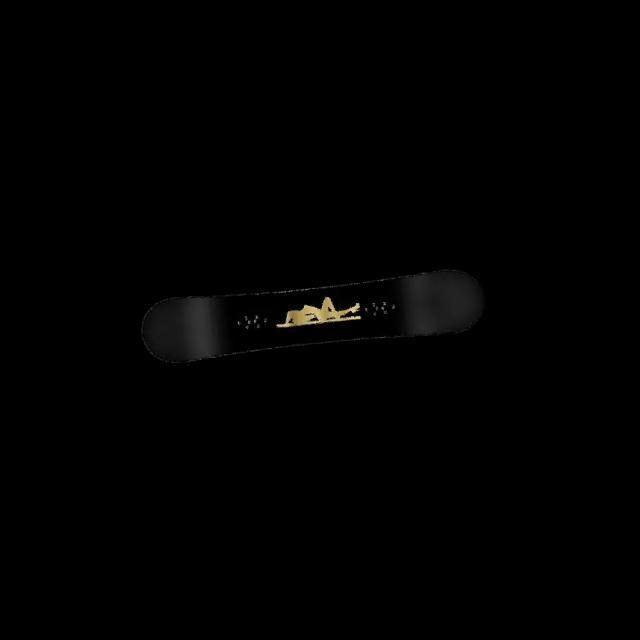Snowboard: (139, 267, 485, 365)
